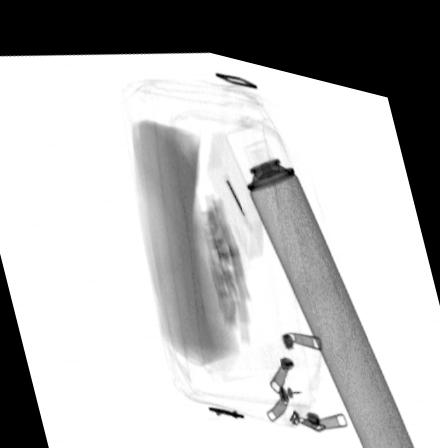Sprayer: (223, 102, 423, 448)
